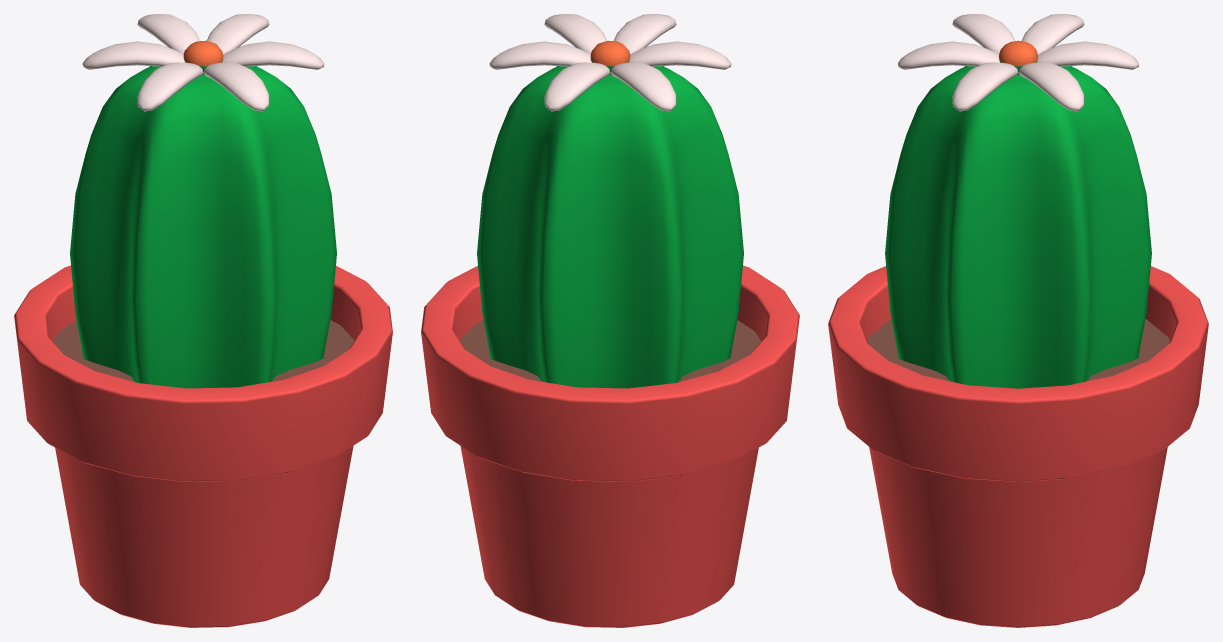
File: City_20_Cactus_8.glb
The picture shows the model from 3 angles, left to right: view 1: azimuth 30°, elevation 25°; view 2: azimuth 150°, elevation 25°; view 3: azimuth 270°, elevation 25°; orthographic projection.
Parts seen in each view (by area): view 1: City_20_Cactus_8; view 2: City_20_Cactus_8; view 3: City_20_Cactus_8.
Boxes of the visible parts, <box> form: City_20_Cactus_8: <box>14,14,392,627</box>; City_20_Cactus_8: <box>421,14,799,627</box>; City_20_Cactus_8: <box>828,14,1208,627</box>.
Size of the model in its own units: 0.6614 by 1.02 by 0.6614.
1 material, 1 textured.
